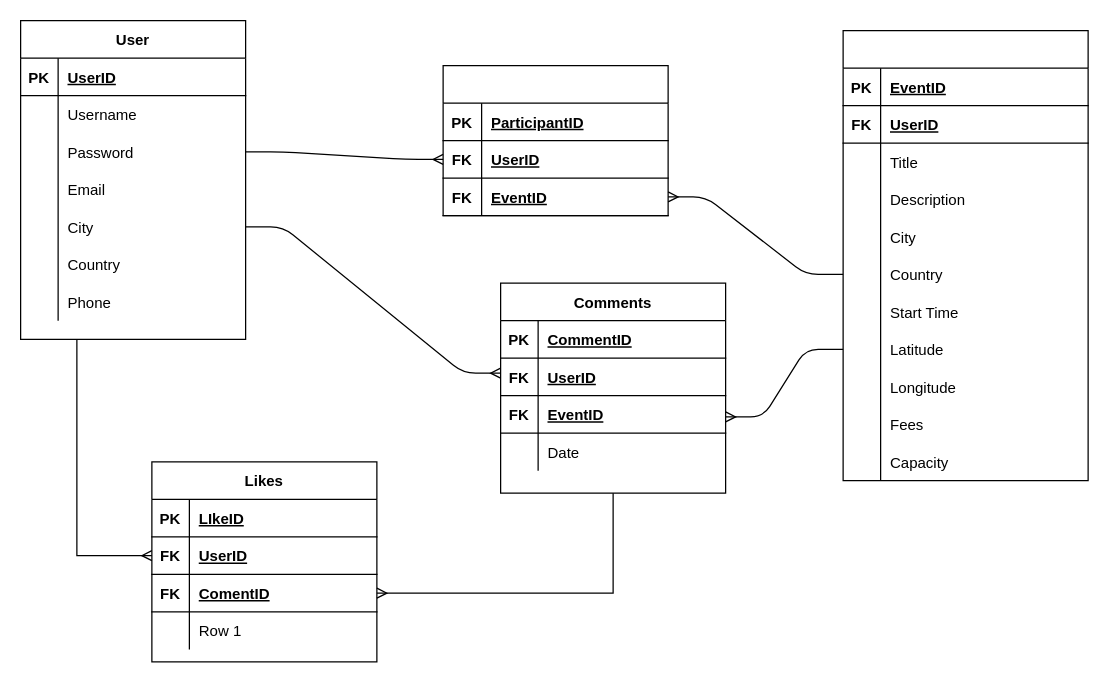
Some shapes in this 1109 by 683 pixel diagram are drawn without their labels. Here are the shapes that lost their labels. From the top down, the box of each, then its label:
(442, 64, 668, 216): Participants
(842, 29, 1088, 481): Events
